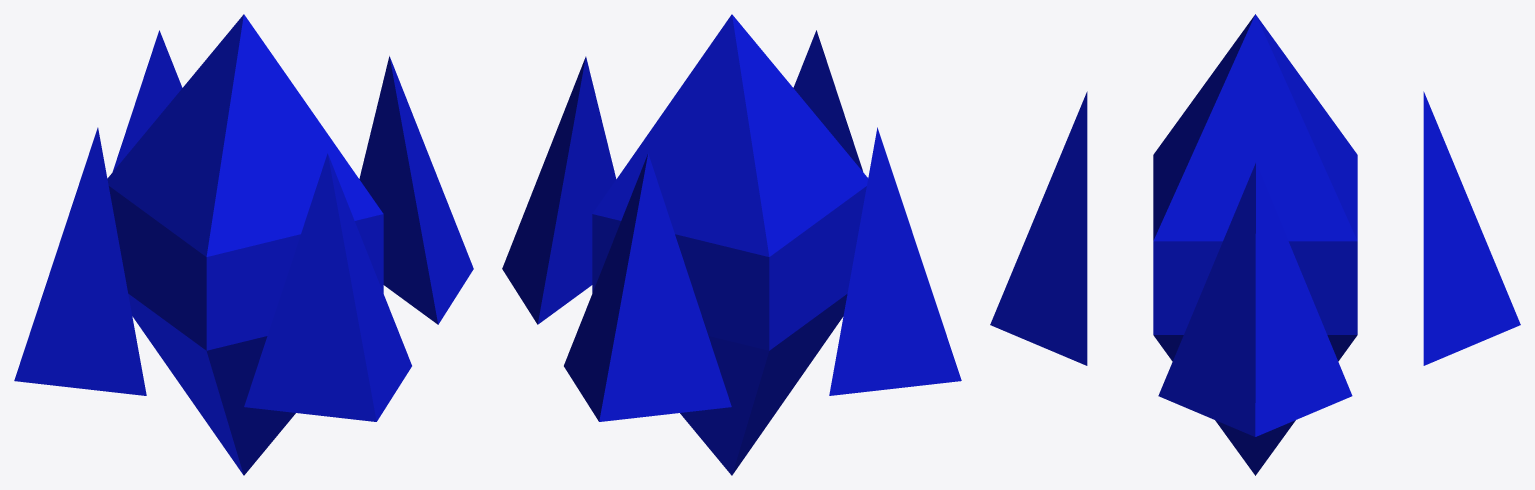
The model's file is Crystal Enemy.fbx.
3 renders of one model, left to right at view 1: azimuth 30°, elevation 25°; view 2: azimuth 150°, elevation 25°; view 3: azimuth 270°, elevation 25°, orthographic.
Visible parts, largest first — view 1: Secondary Sapphire, Main Sapphire; view 2: Secondary Sapphire, Main Sapphire; view 3: Secondary Sapphire, Main Sapphire.
Part boxes in pixels (<box>): Secondary Sapphire: <box>14,30,473,421</box>; Main Sapphire: <box>107,14,383,475</box>; Secondary Sapphire: <box>502,30,961,421</box>; Main Sapphire: <box>592,14,868,475</box>; Secondary Sapphire: <box>990,91,1520,436</box>; Main Sapphire: <box>1153,14,1357,475</box>.
Size of the model in its own units: 4.09 by 3.93 by 4.09.
